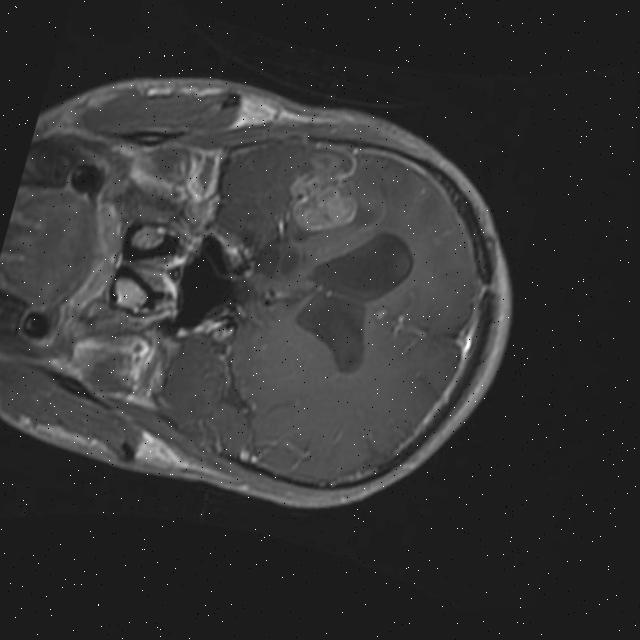Glioma: (277, 138, 372, 242)
